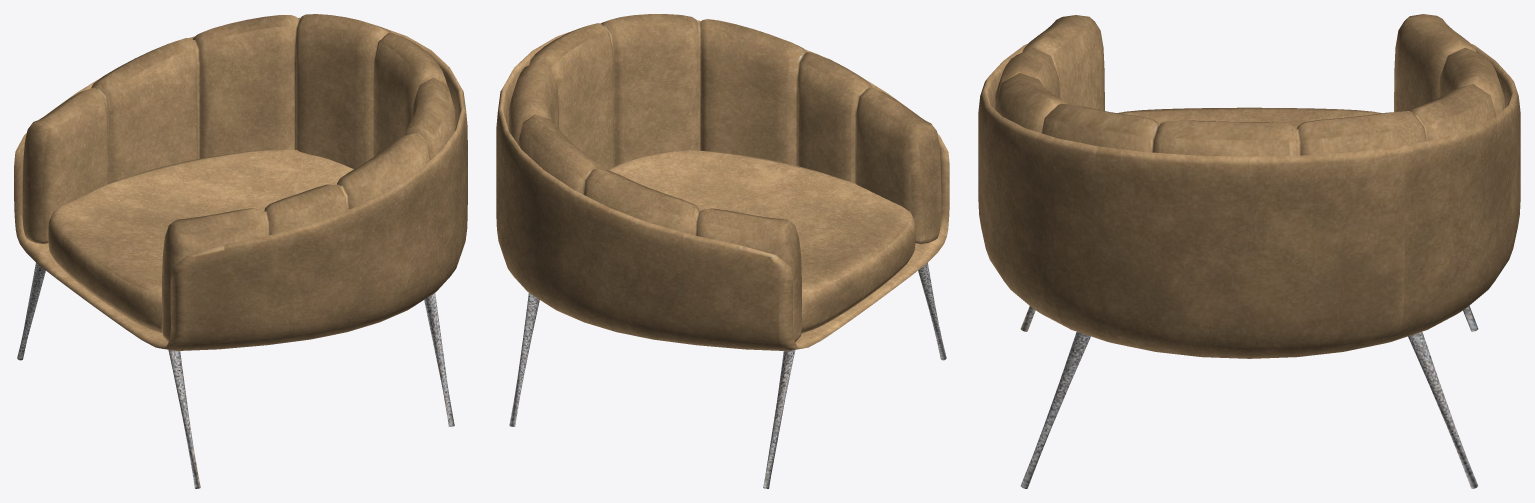
Rendered from Sofa.obj.
3 views of the same model, side by side, from view 1: azimuth 30°, elevation 25°; view 2: azimuth 150°, elevation 25°; view 3: azimuth 270°, elevation 25° (orthographic). The views are drawn at different scales.
Parts seen in each view (by area): view 1: defaultMaterial.002, defaultMaterial.003, defaultMaterial.001, defaultMaterial; view 2: defaultMaterial.002, defaultMaterial.003, defaultMaterial.001, defaultMaterial; view 3: defaultMaterial.003, defaultMaterial.002, defaultMaterial, defaultMaterial.001.
Boxes of the visible parts, x1,y1,x2,y2 form: defaultMaterial.002: [22, 14, 455, 341]; defaultMaterial.003: [14, 17, 467, 350]; defaultMaterial.001: [48, 149, 353, 333]; defaultMaterial: [17, 263, 454, 488]; defaultMaterial.002: [508, 14, 941, 342]; defaultMaterial.003: [496, 20, 949, 350]; defaultMaterial.001: [608, 150, 915, 333]; defaultMaterial: [509, 263, 946, 488]; defaultMaterial.003: [978, 44, 1520, 358]; defaultMaterial.002: [995, 14, 1505, 156]; defaultMaterial: [1020, 306, 1478, 488]; defaultMaterial.001: [1117, 107, 1381, 129].
Bounding box in the file's own units: 1.68 × 1.43 × 1.79.
1 material, 1 textured.
